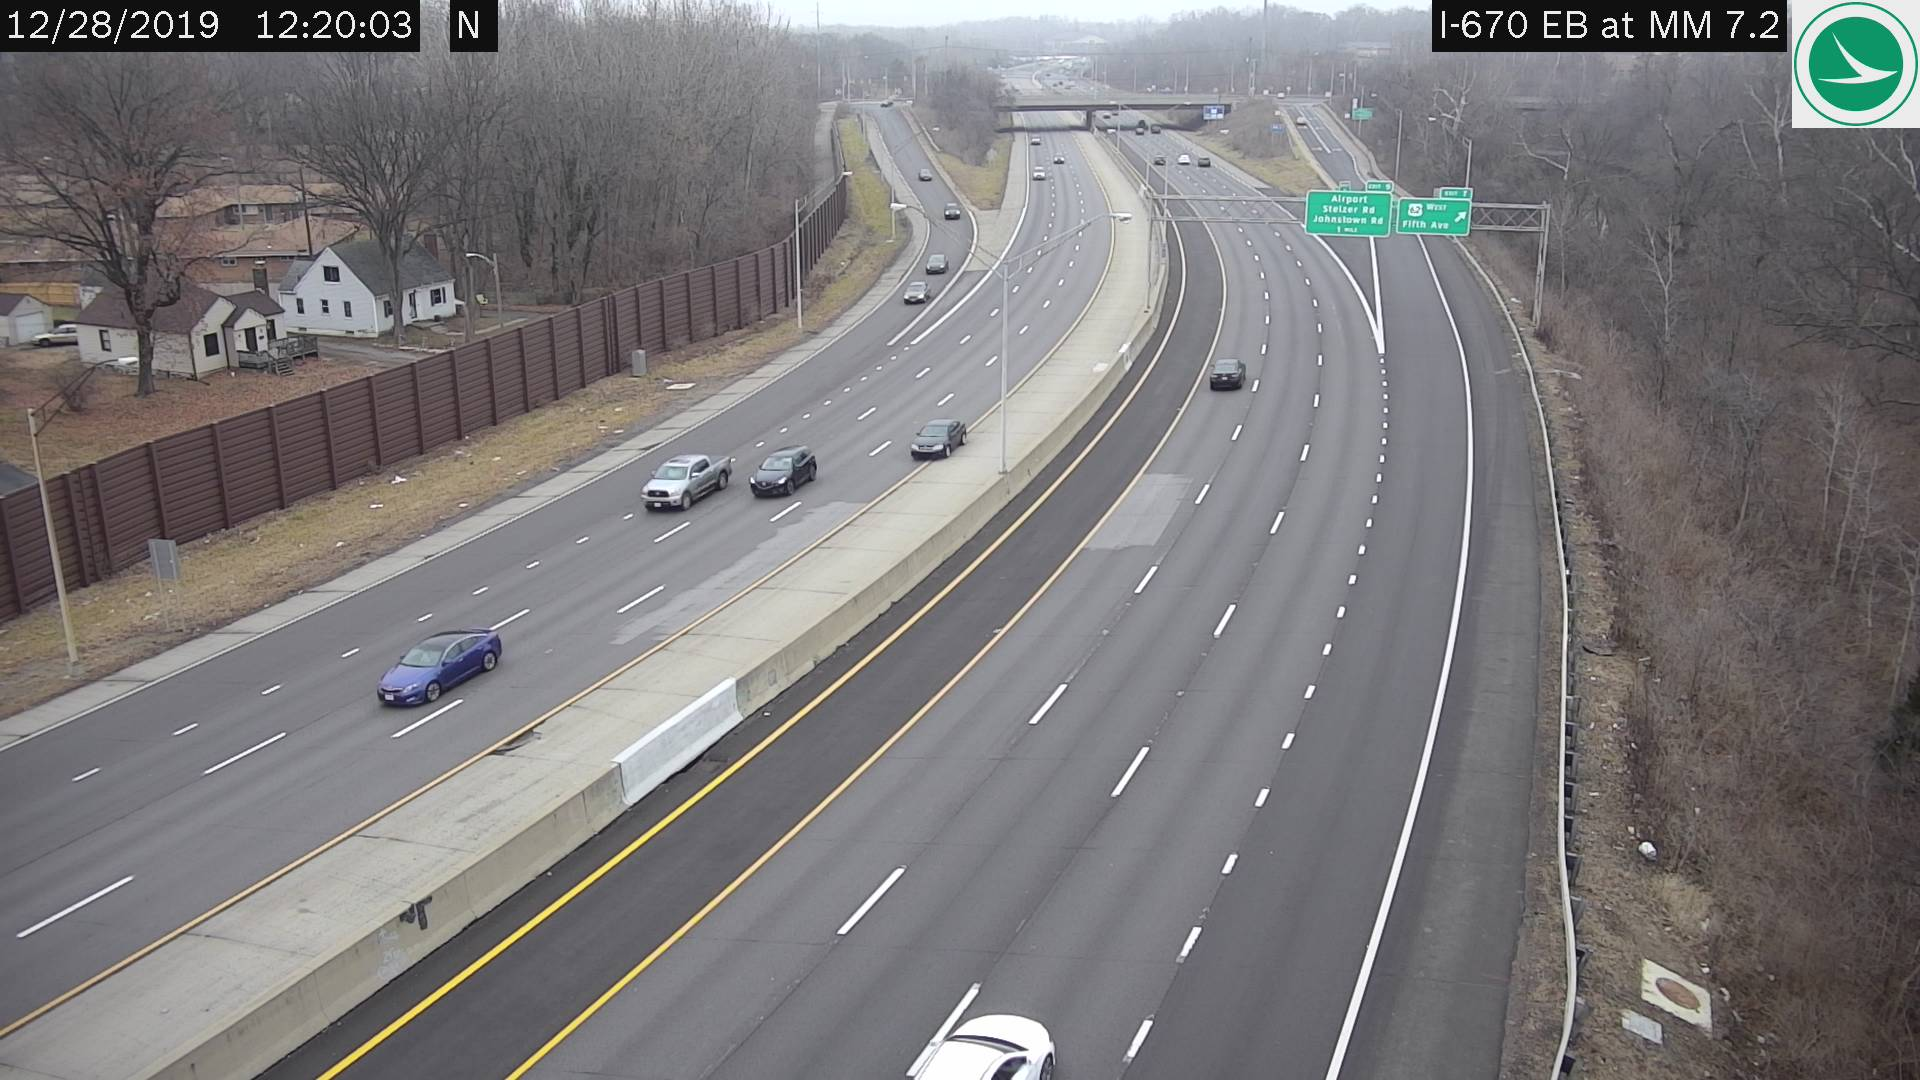car: (378, 628, 498, 712), (914, 1011, 1054, 1072), (642, 452, 731, 512), (750, 448, 814, 492), (910, 415, 967, 460), (1211, 360, 1246, 388), (902, 280, 926, 305), (926, 252, 945, 272), (942, 200, 963, 216), (1030, 164, 1046, 179)
